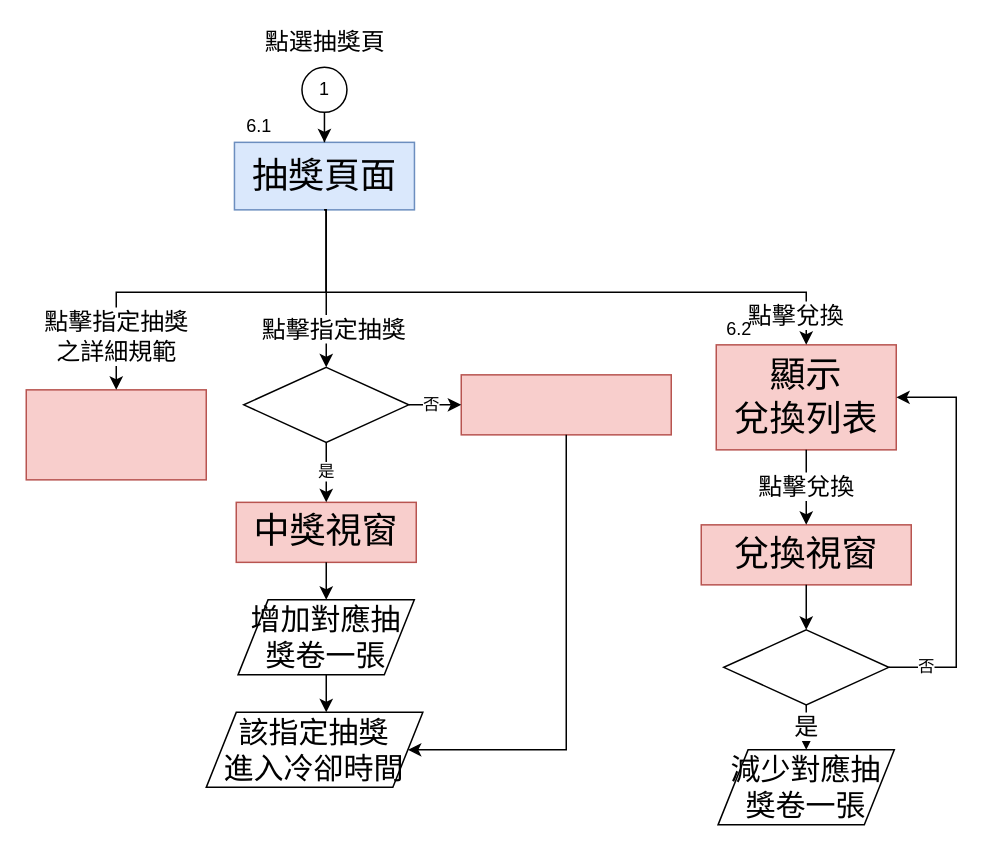
Some shapes in this 995 by 851 pixel diagram are drawn without their labels. Here are the shapes that lost their labels. From the top down, the centre of each, then its label:
(x=325, y=404): 是否中獎 ?
(x=565, y=404): 未中獎視窗
(x=115, y=434): 使用規範 視窗
(x=805, y=666): 是否兌換 ?
